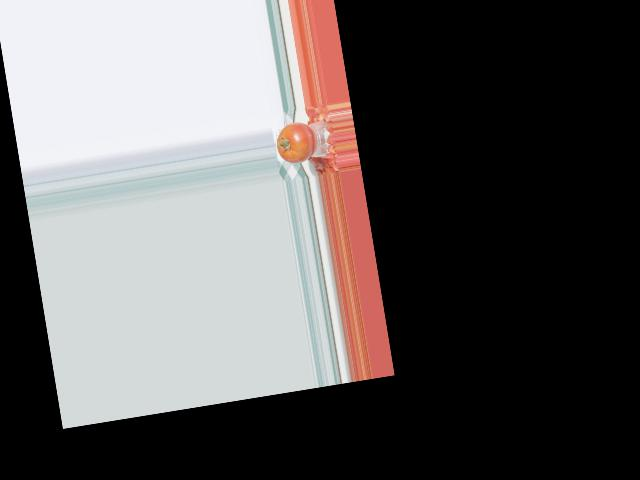tomato: (273, 118, 318, 166)
